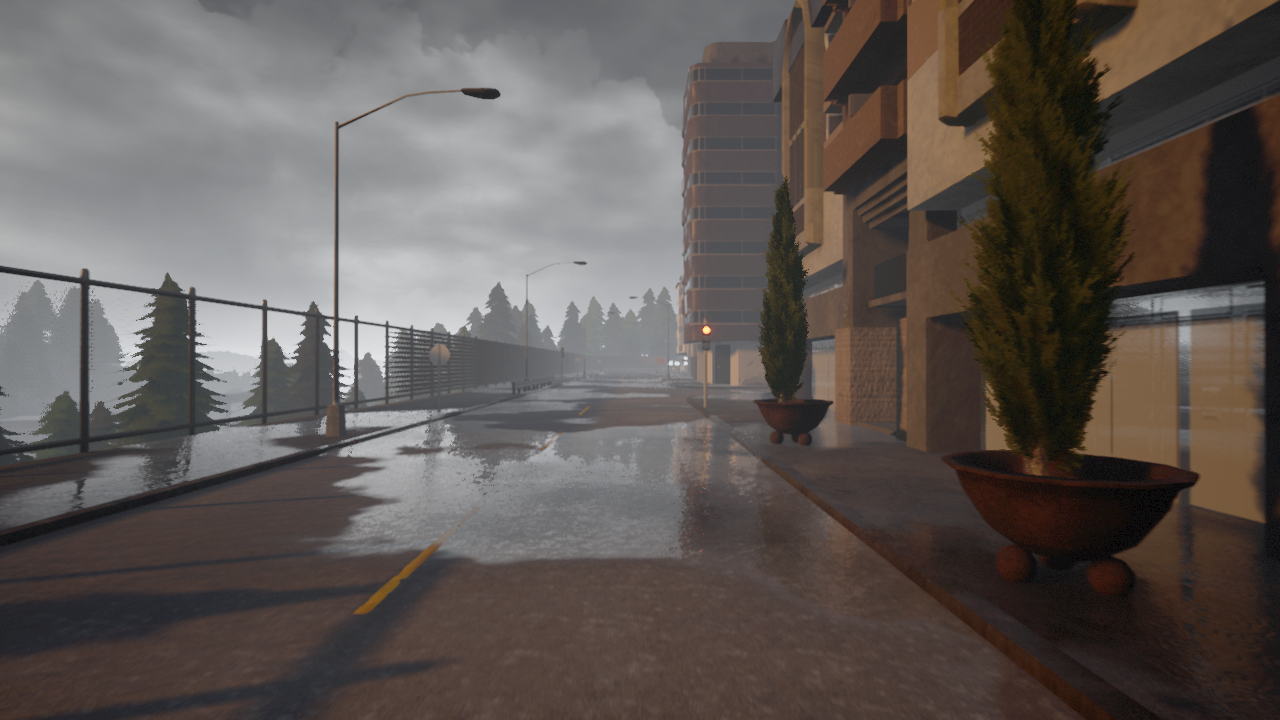red: (701, 324, 712, 351)
